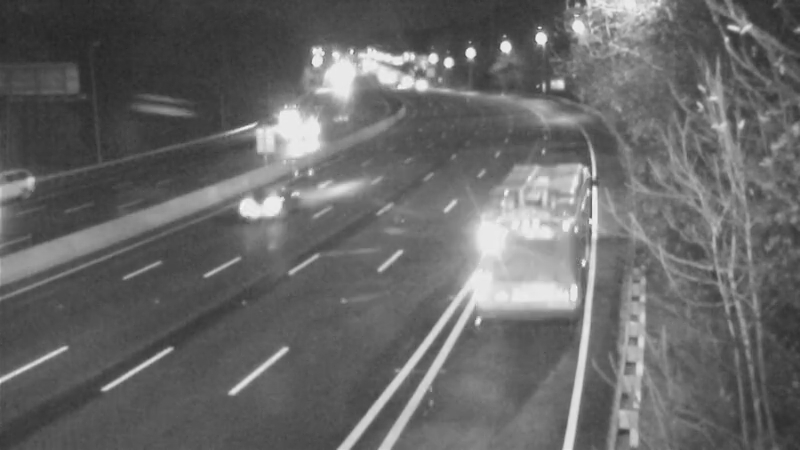vehicle: (492, 210, 572, 290), (229, 166, 309, 246), (279, 110, 329, 160), (258, 94, 308, 144)
